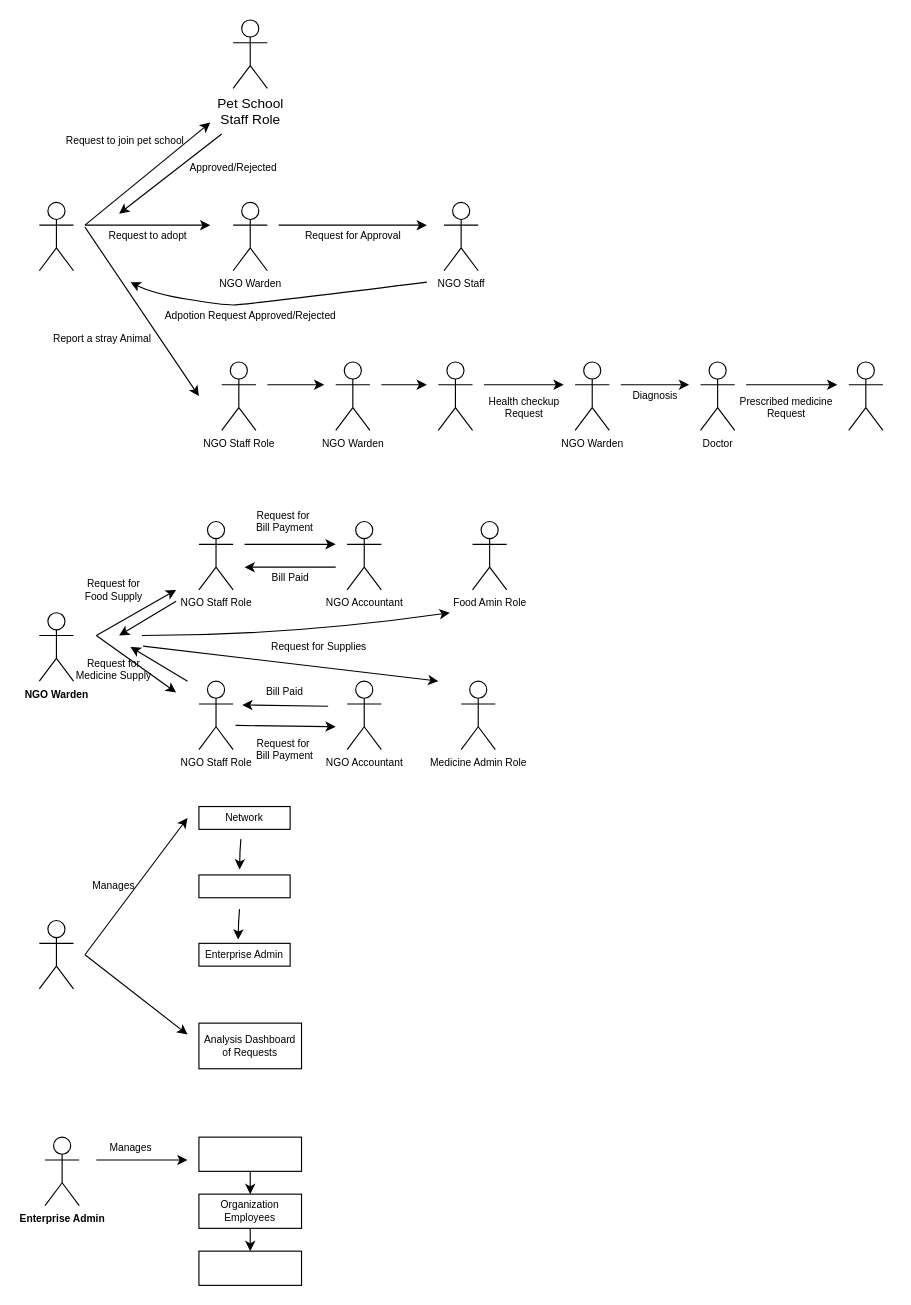
Image size: 911x1305. Some labels were removed from this diagram. The shapes that lost their labels are listed below. From the top down, each one's centre as x and y in pixels, then its label:
[56,236]: Customer
[455,395]: NGO Field worker
[865,395]: Pharmacist
[244,886]: Enterprise
[56,954]: System Admin
[250,1153]: Organization
[250,1267]: Employee Credentials
